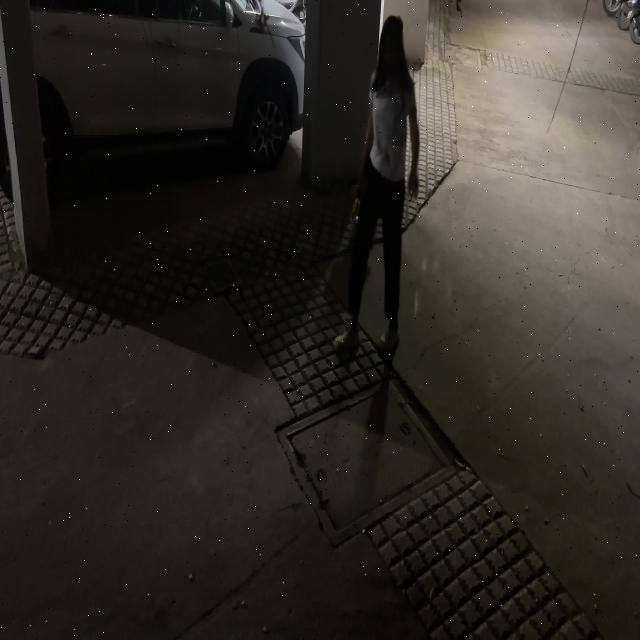garbage_dumping: (406, 245, 460, 324)
